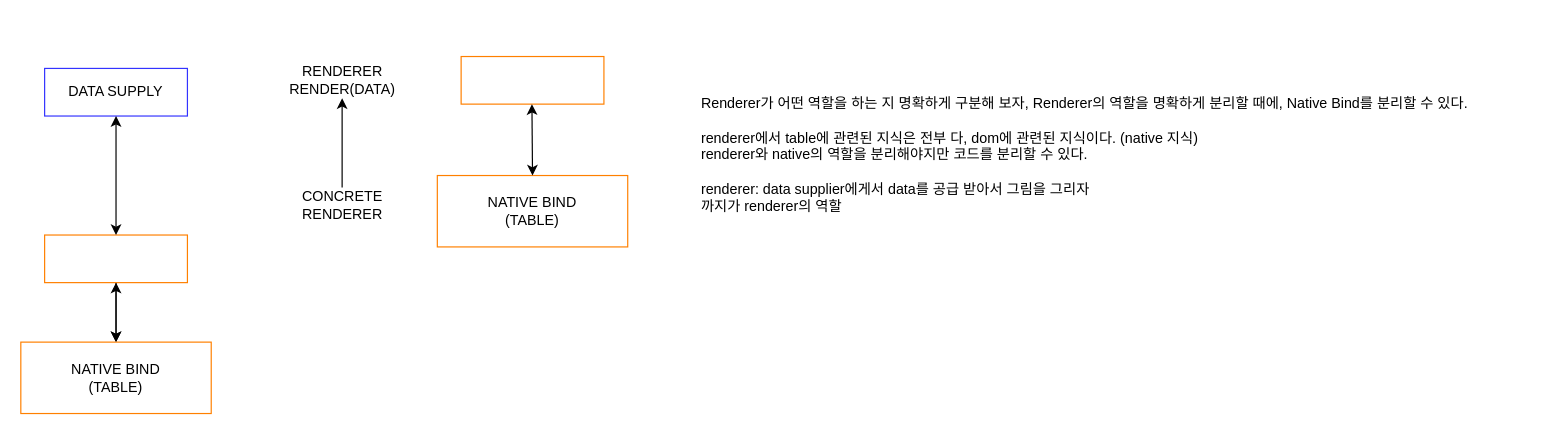
Image size: 1565x434. Some labels were removed from this diagram. The centre of each missing label's shape, as x and y in pixels:
"RENDERER" belongs at [115,258].
"RENDERING" belongs at [532,79].
